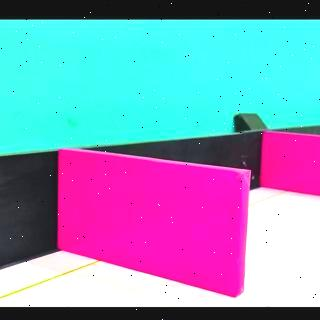xparking: (66, 174, 240, 293), (268, 140, 312, 192)
